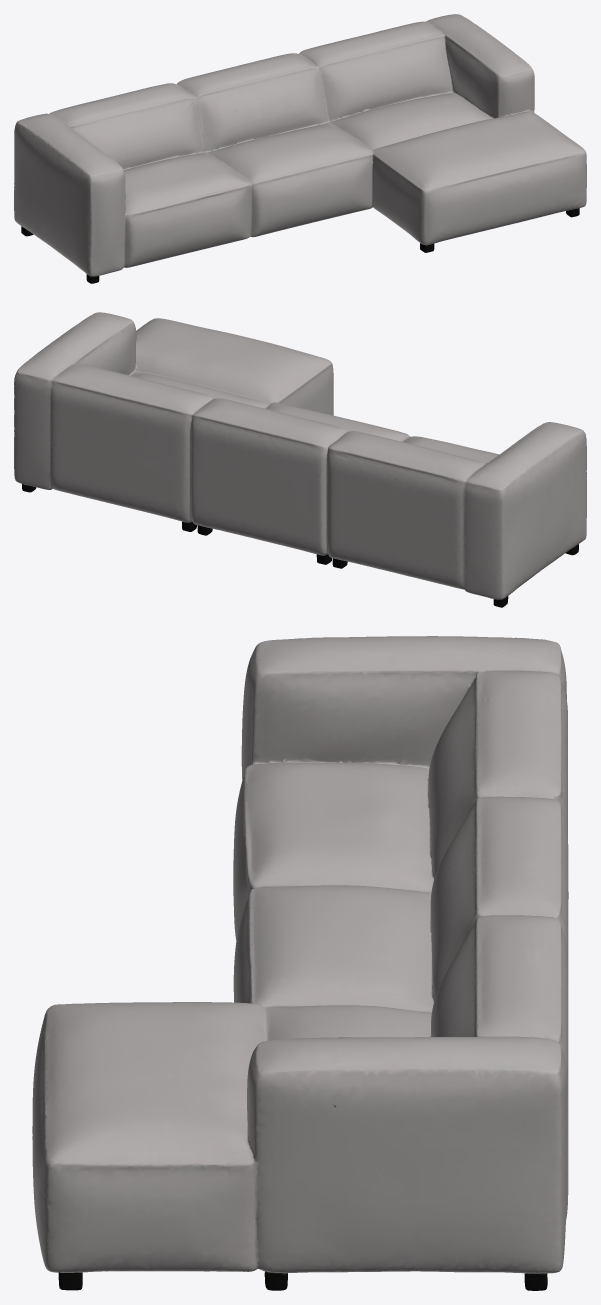
Rendered from sofa.glb.
3 views of the same model, one above another, from view 1: azimuth 30°, elevation 25°; view 2: azimuth 150°, elevation 25°; view 3: azimuth 270°, elevation 25° (orthographic). The views are drawn at different scales.
Visible parts, largest first — view 1: world; view 2: world; view 3: world.
Part boxes in pixels (x1=…): world: x1=14, y1=14, x2=586, y2=283; world: x1=14, y1=312, x2=586, y2=607; world: x1=32, y1=636, x2=568, y2=1290.
Bounding box in the file's own units: 1 × 0.2496 × 0.5146.
Materials: 1 (1 with a texture image).
